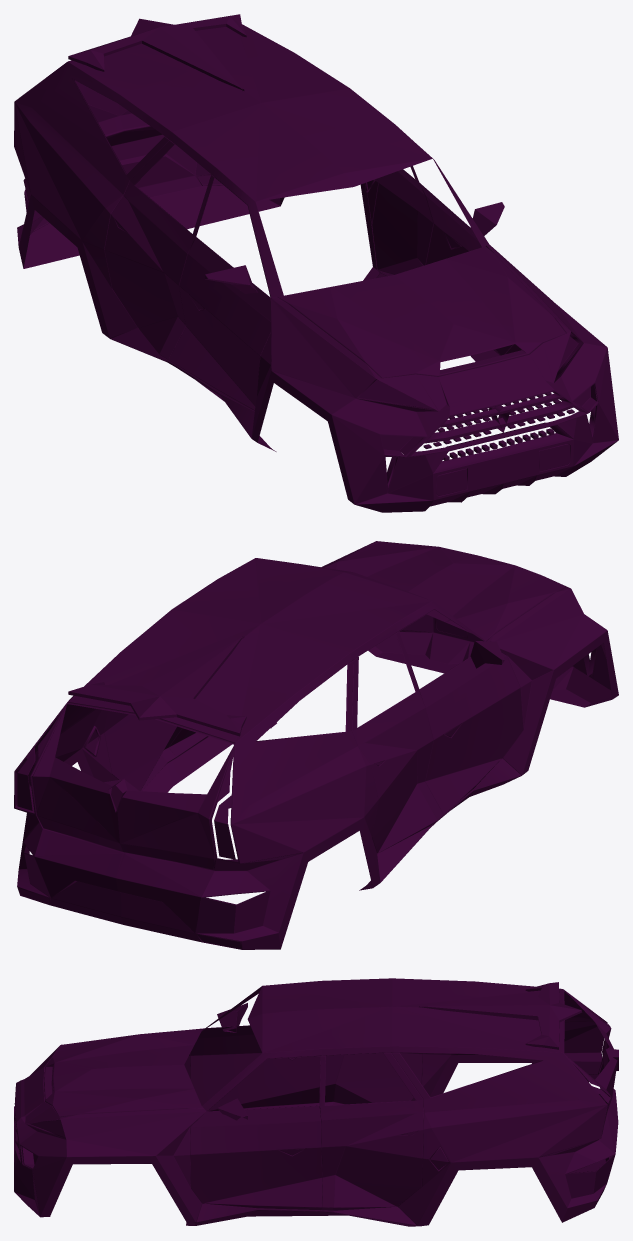
3 views of the same model, one above another, from view 1: azimuth 30°, elevation 25°; view 2: azimuth 150°, elevation 25°; view 3: azimuth 270°, elevation 25° (orthographic). The views are drawn at different scales.
Visible parts, largest first — view 1: Object_4; view 2: Object_4; view 3: Object_4.
Part boxes in pixels (x1,y1,x2,y2): Object_4: (14, 14, 618, 512); Object_4: (14, 541, 618, 949); Object_4: (14, 978, 618, 1226).
Bounding box in the file's own units: 2.42 × 1.77 × 5.46.
